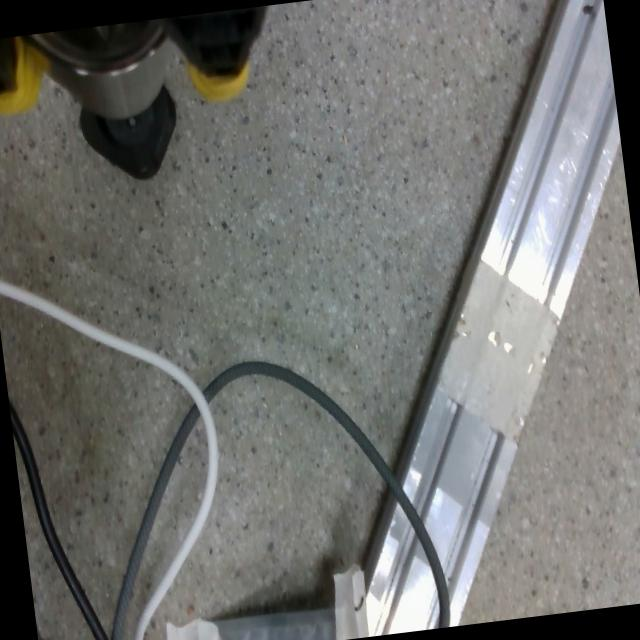cell: (76, 86, 184, 186)
